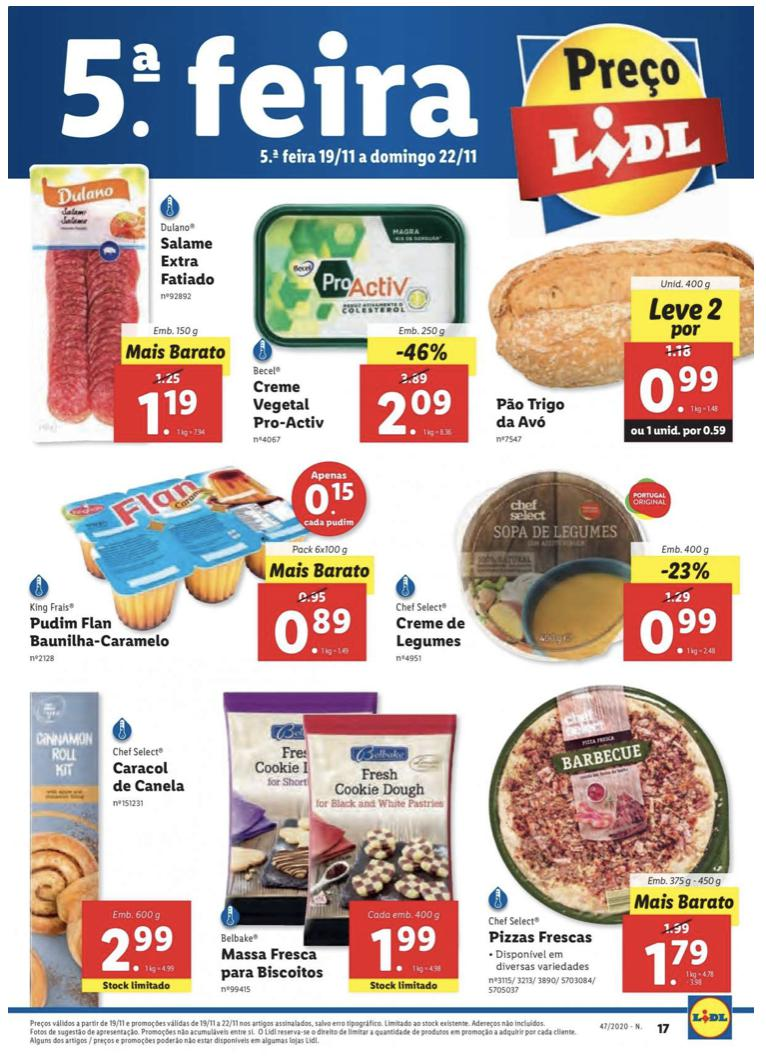name: (20, 614, 177, 651), (213, 943, 335, 983), (246, 378, 330, 433), (159, 235, 223, 289), (112, 757, 191, 798), (491, 394, 573, 433), (391, 614, 468, 652), (489, 926, 597, 952)
price: (92, 922, 184, 977), (270, 603, 355, 658), (634, 364, 721, 416), (639, 605, 721, 660), (379, 386, 462, 440), (364, 924, 443, 980), (135, 387, 209, 443), (642, 939, 714, 990)
product: (197, 685, 470, 994), (479, 683, 747, 994), (16, 452, 379, 677), (379, 461, 751, 677), (230, 183, 481, 452), (481, 222, 764, 452), (18, 157, 235, 453), (9, 689, 197, 994)
promotion: (393, 340, 452, 364), (658, 558, 714, 583)
